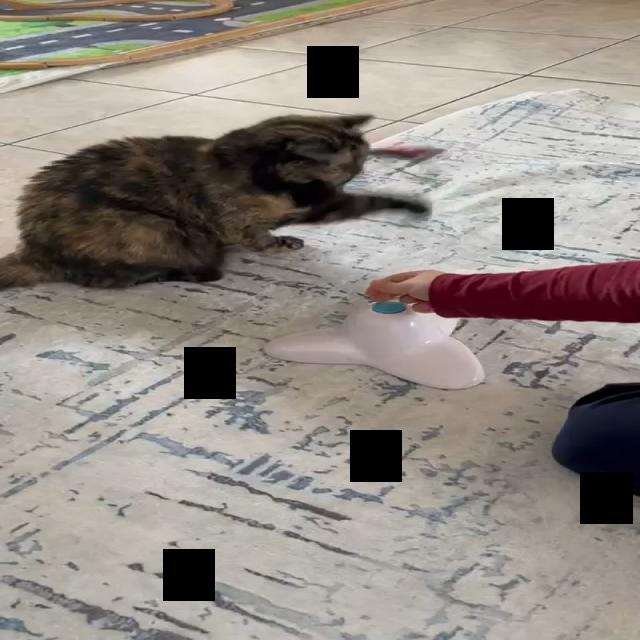authorized: (0, 112, 441, 289)
